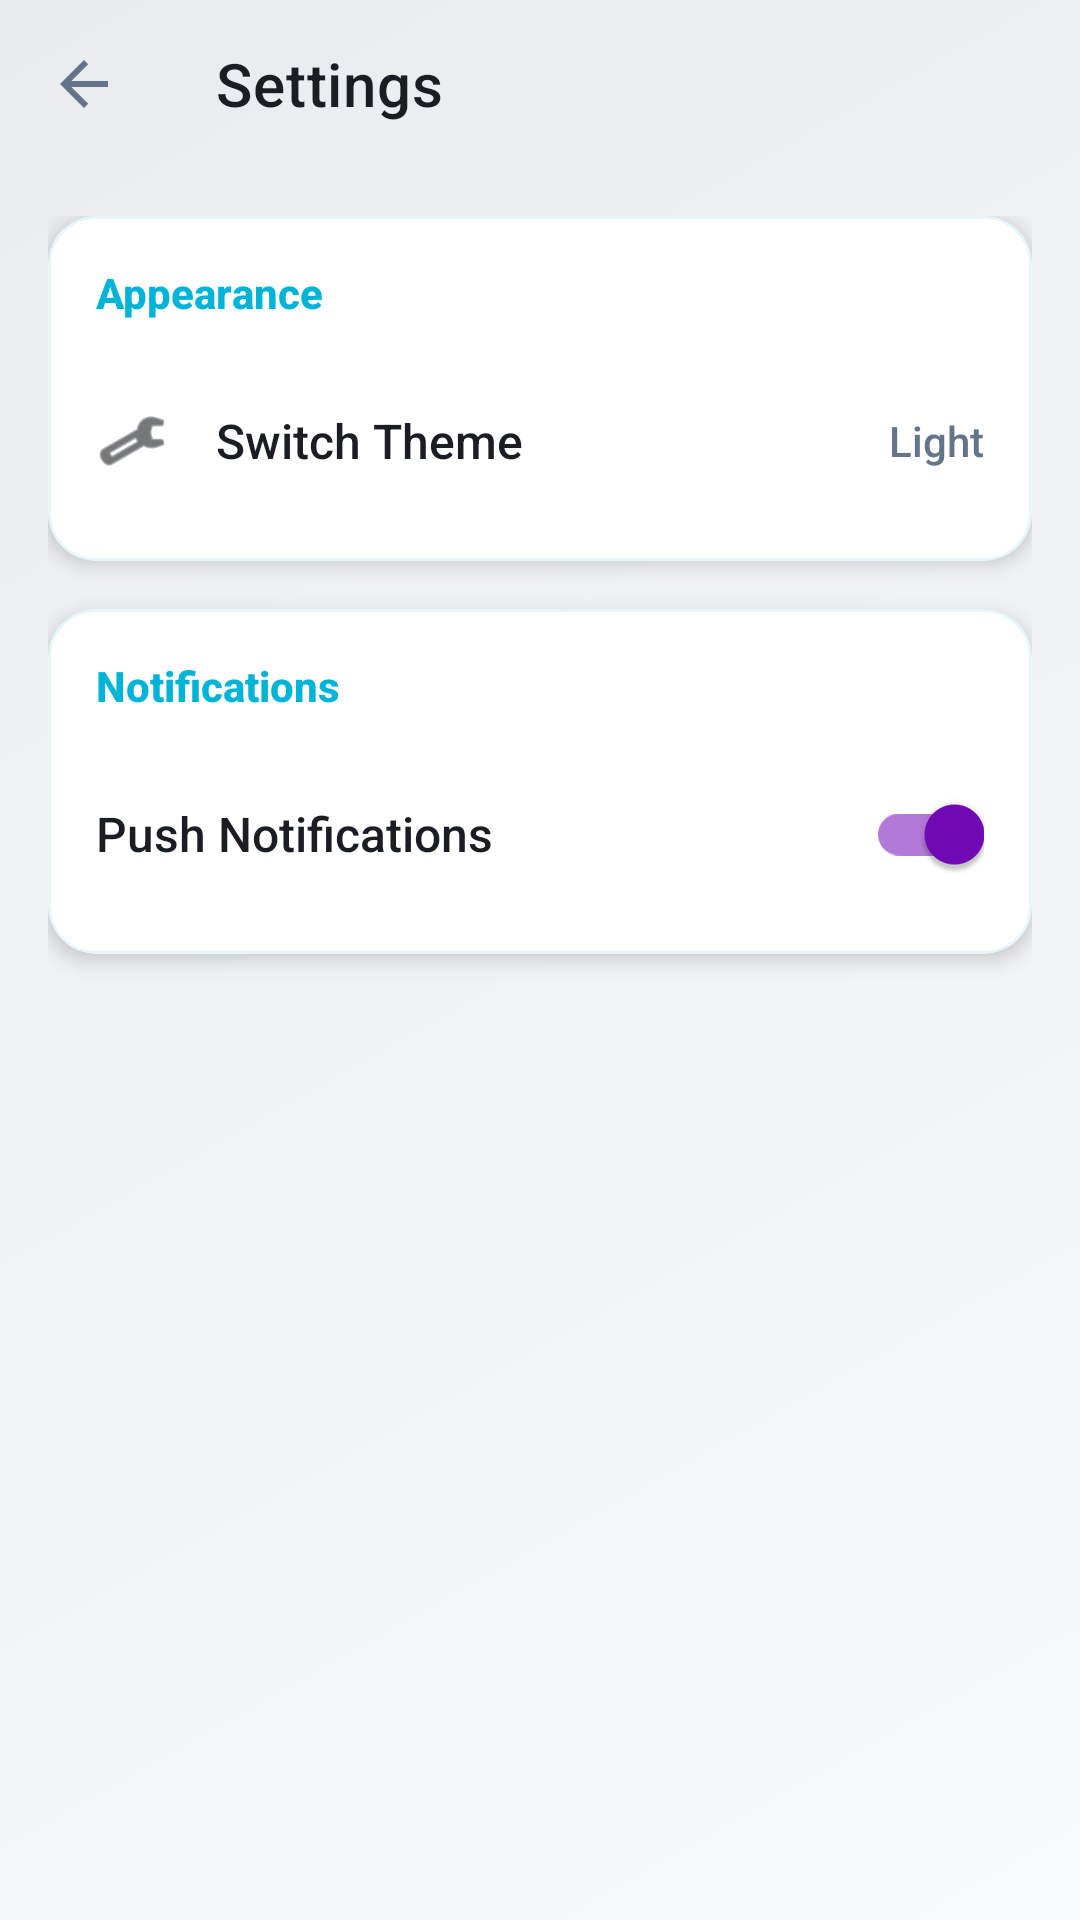

Where icons sit on this 1080x1920 app screen, as bbox=[x1, y1, x2, y2]:
manage: bbox=[99, 416, 164, 466]
